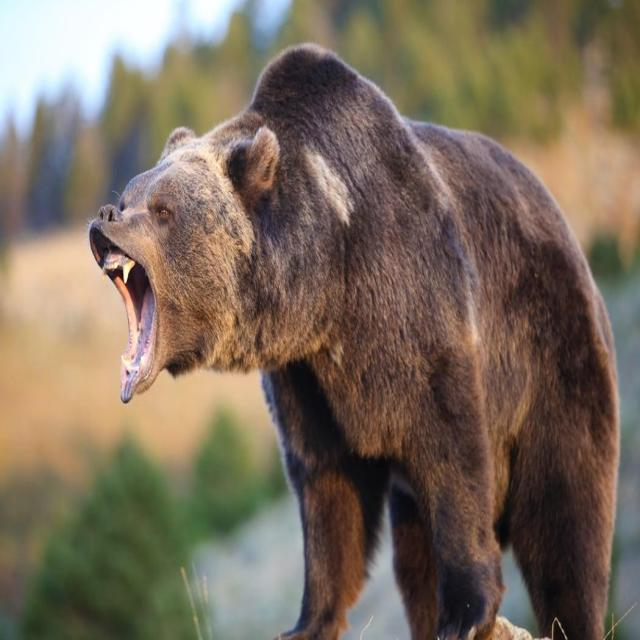Bear: (86, 43, 620, 640)
